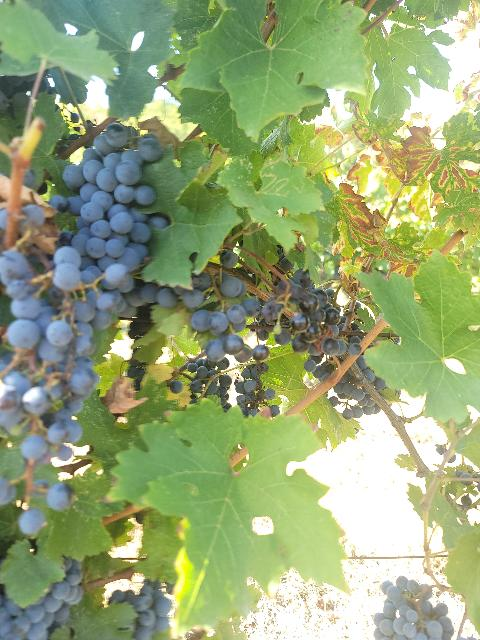grapes: (0, 245, 115, 499), (50, 122, 169, 289), (276, 269, 348, 359), (374, 576, 454, 640)
